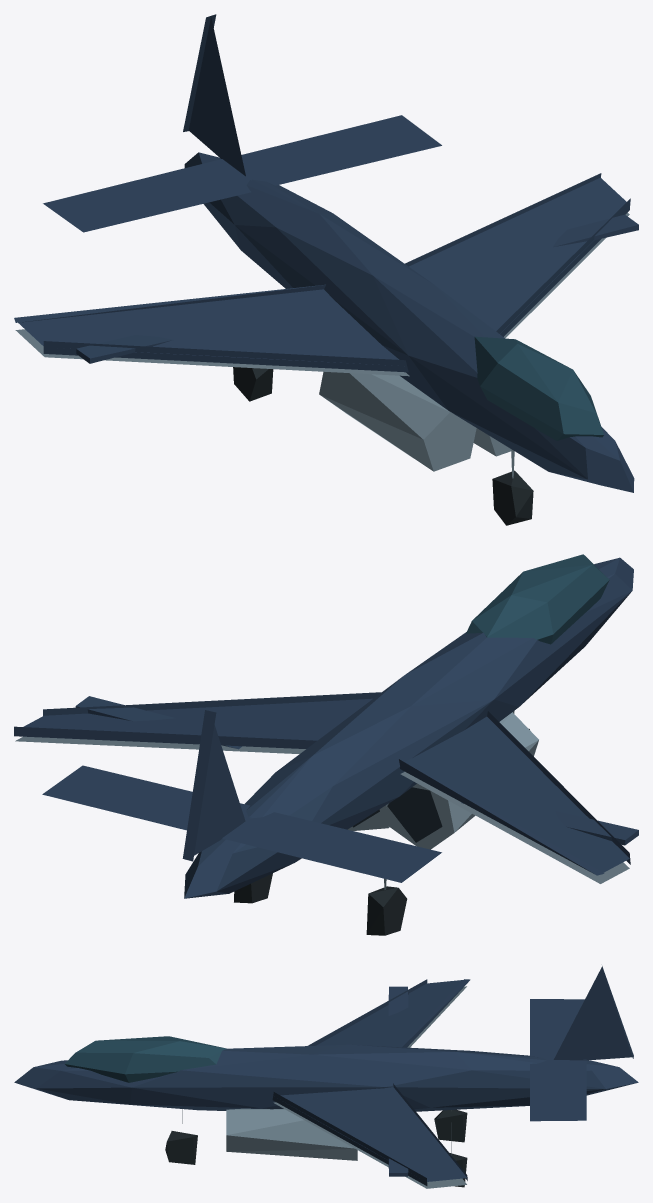
The model's file is aircraft-fighter-jet.lod2.glb.
3 renders of one model, top to bottom at view 1: azimuth 30°, elevation 25°; view 2: azimuth 150°, elevation 25°; view 3: azimuth 270°, elevation 25°, orthographic. The views are drawn at different scales.
Parts seen in each view (by area): view 1: aircraft-fighter-jet__body, aircraft-fighter-jet__gear_0, aircraft-fighter-jet__aileron_1, aircraft-fighter-jet__aileron_-1, aircraft-fighter-jet__gear_-0p85; view 2: aircraft-fighter-jet__body, aircraft-fighter-jet__gear_-0p85, aircraft-fighter-jet__aileron_-1, aircraft-fighter-jet__aileron_1, aircraft-fighter-jet__gear_0p85; view 3: aircraft-fighter-jet__body, aircraft-fighter-jet__gear_0, aircraft-fighter-jet__gear_-0p85, aircraft-fighter-jet__aileron_1, aircraft-fighter-jet__aileron_-1.
Part boxes in pixels (bbox=[...]): aircraft-fighter-jet__body: bbox=[14, 14, 634, 492]; aircraft-fighter-jet__gear_0: bbox=[492, 449, 533, 525]; aircraft-fighter-jet__aileron_1: bbox=[553, 214, 638, 246]; aircraft-fighter-jet__aileron_-1: bbox=[76, 335, 173, 363]; aircraft-fighter-jet__gear_-0p85: bbox=[233, 367, 273, 401]; aircraft-fighter-jet__body: bbox=[14, 554, 633, 898]; aircraft-fighter-jet__gear_-0p85: bbox=[366, 878, 407, 935]; aircraft-fighter-jet__aileron_-1: bbox=[461, 802, 638, 845]; aircraft-fighter-jet__aileron_1: bbox=[75, 696, 241, 749]; aircraft-fighter-jet__gear_0p85: bbox=[234, 873, 272, 903]; aircraft-fighter-jet__body: bbox=[14, 966, 638, 1188]; aircraft-fighter-jet__gear_0: bbox=[165, 1109, 197, 1164]; aircraft-fighter-jet__gear_-0p85: bbox=[434, 1109, 467, 1142]; aircraft-fighter-jet__aileron_1: bbox=[388, 1144, 408, 1176]; aircraft-fighter-jet__aileron_-1: bbox=[388, 986, 408, 1015].
Bounding box in the file's own units: 7.54 × 3.49 × 9.98.
